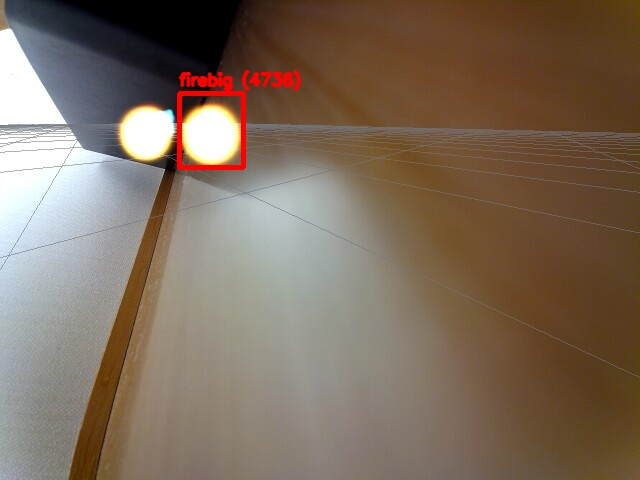firebig: (179, 93, 243, 167)
